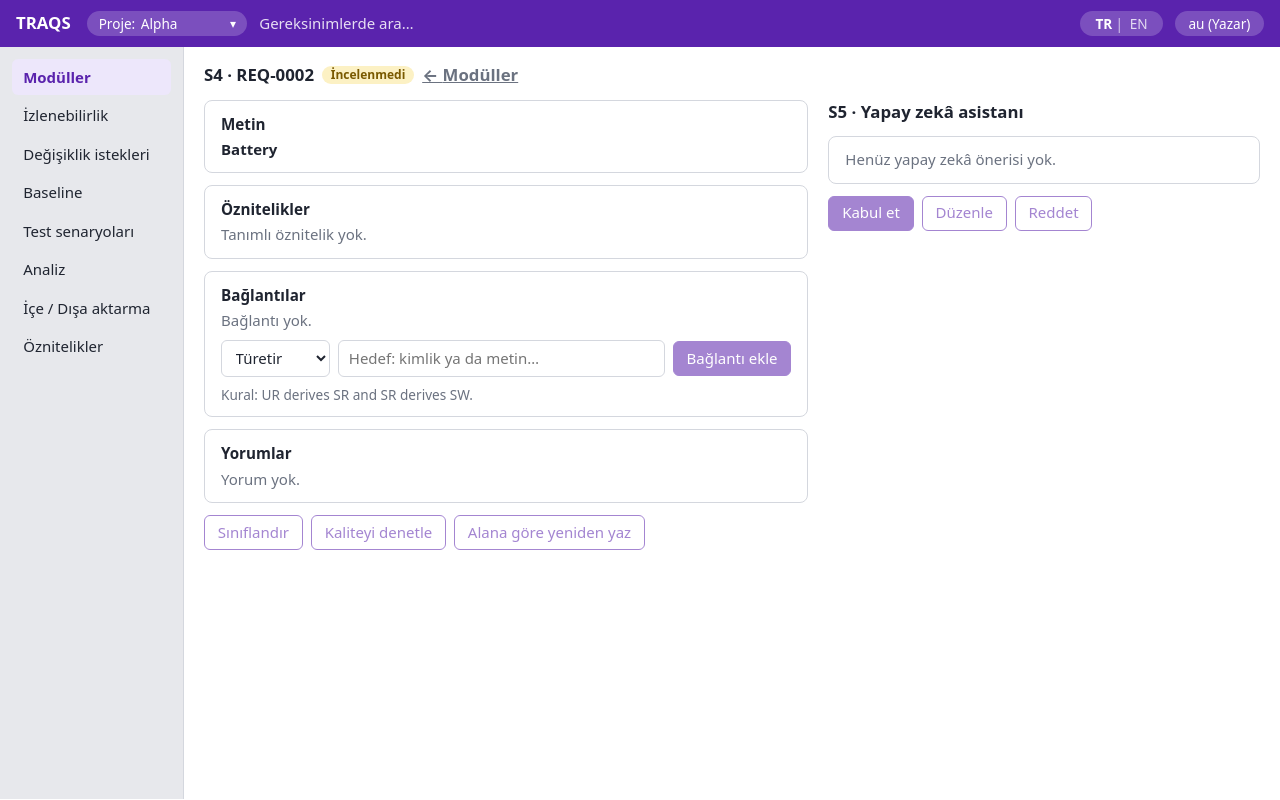
Test: Links card (S4) › shows the rule text in the user's language when the configuration has one
Expected: the text "Kural: UR derives SR and SR derives SW." is shown, [221,385,473,404]
Select "Doğrular" in the dropdown named "Bağlantı türü": x=276, y=358 [221,340,330,377]
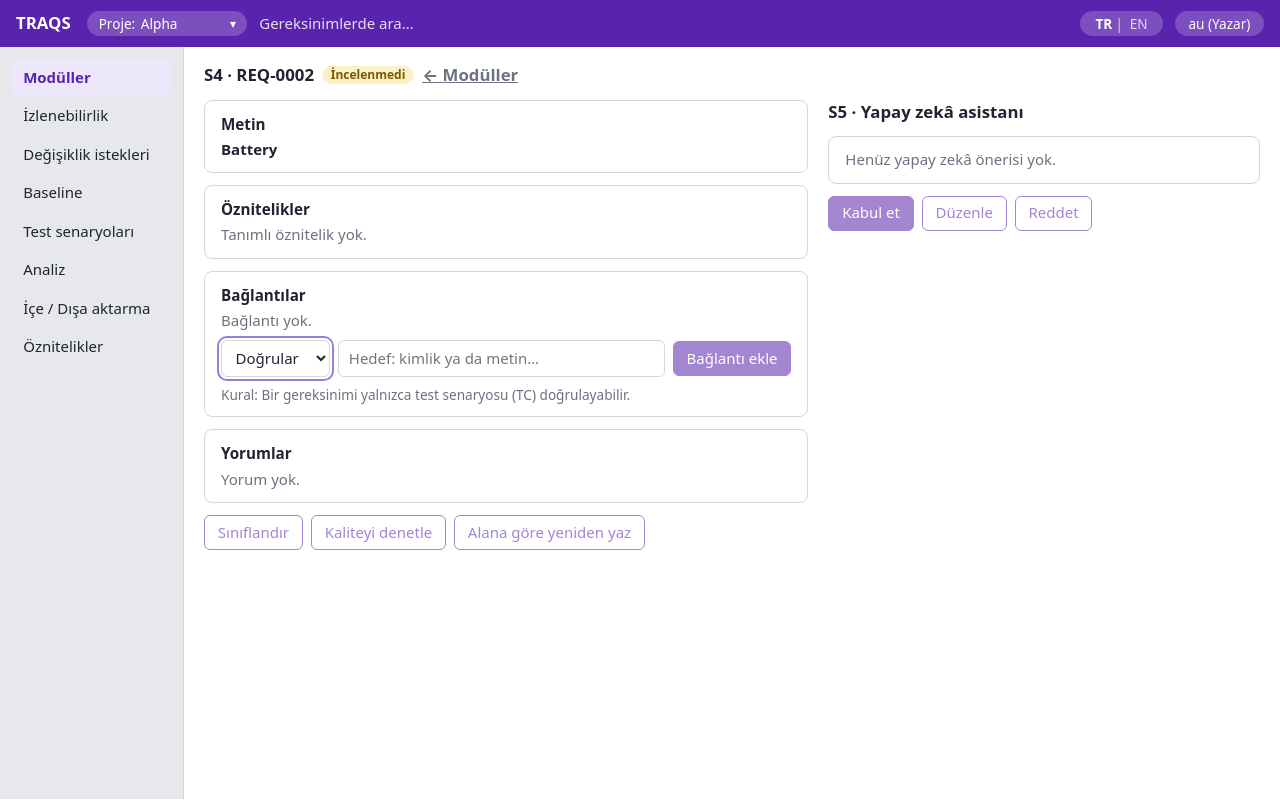
Now the text "Kural: Bir gereksinimi yalnızca test senaryosu (TC) doğrulayabilir" is shown, box [221,385,630,404]
